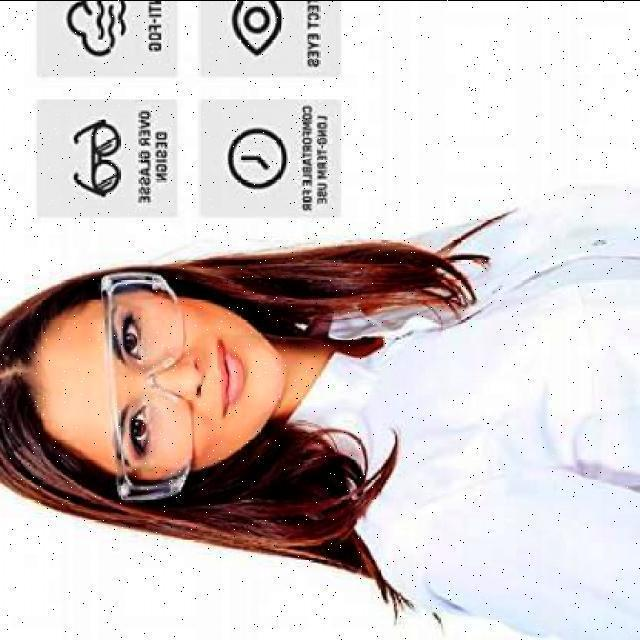Goggles: (99, 235, 202, 517)
